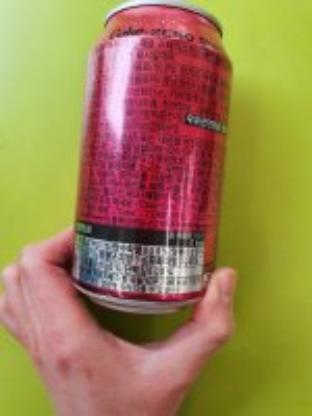Can: (70, 3, 236, 324)
